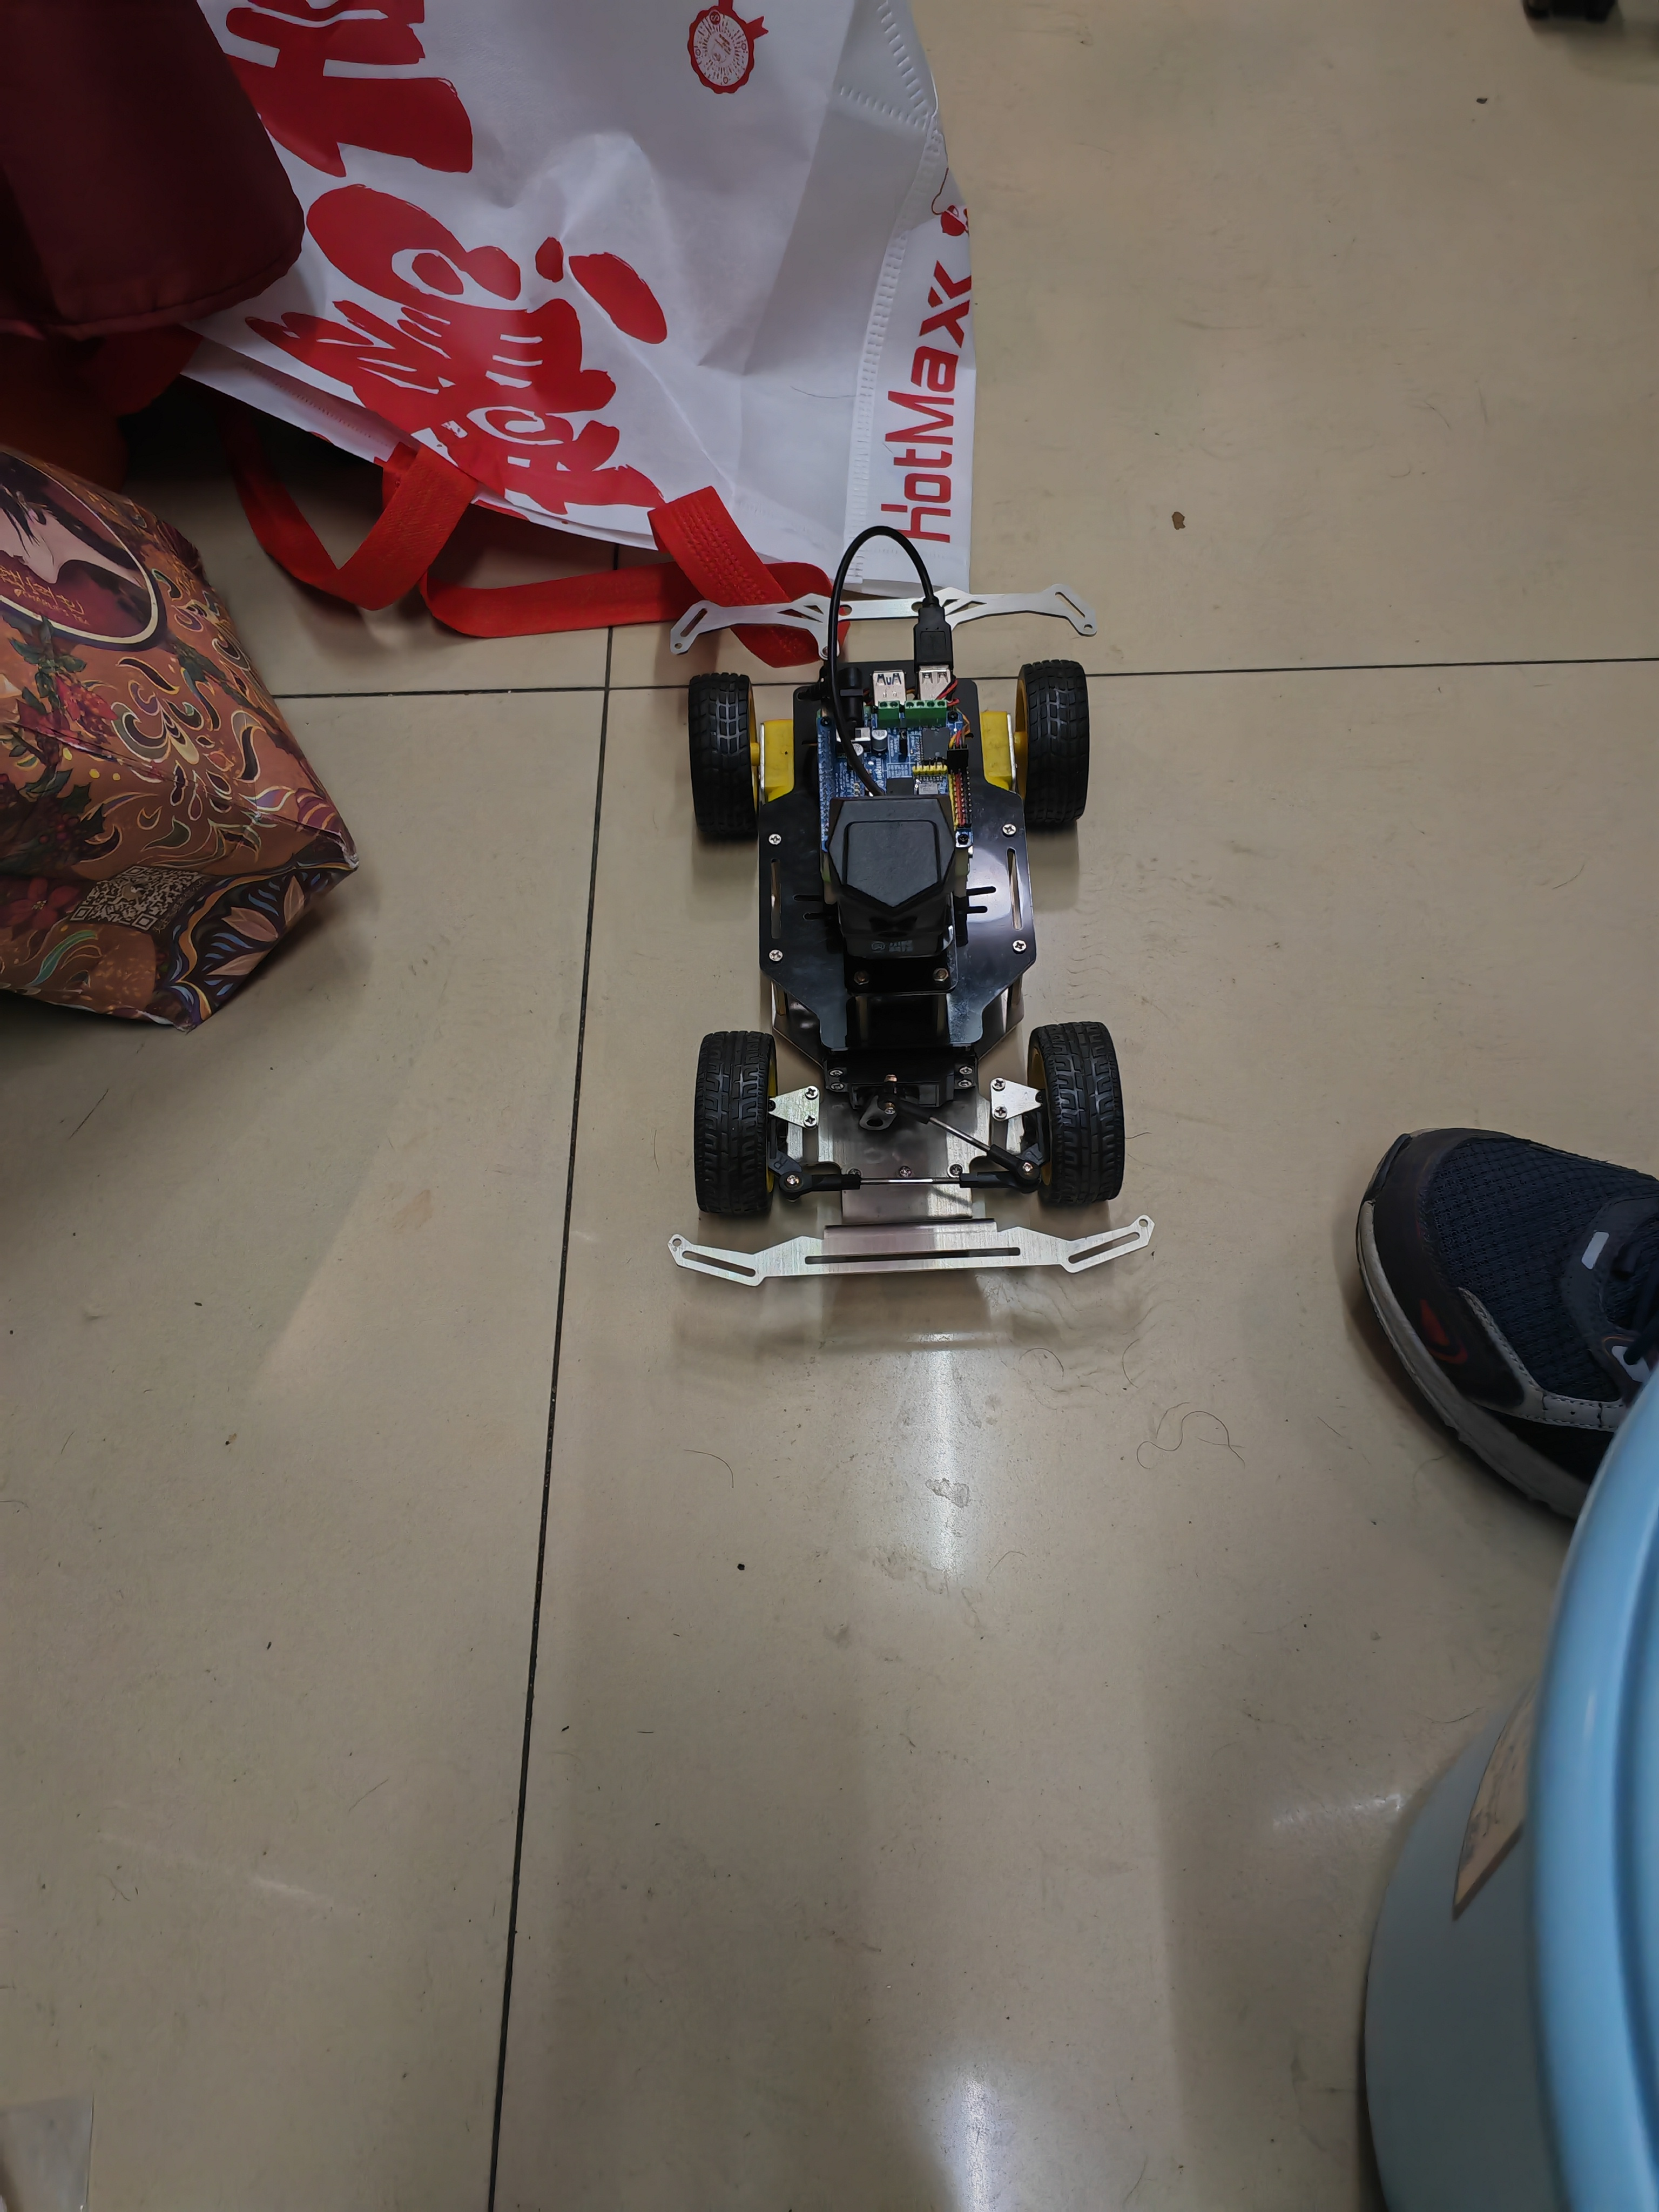car: (641, 502, 1155, 1315)
